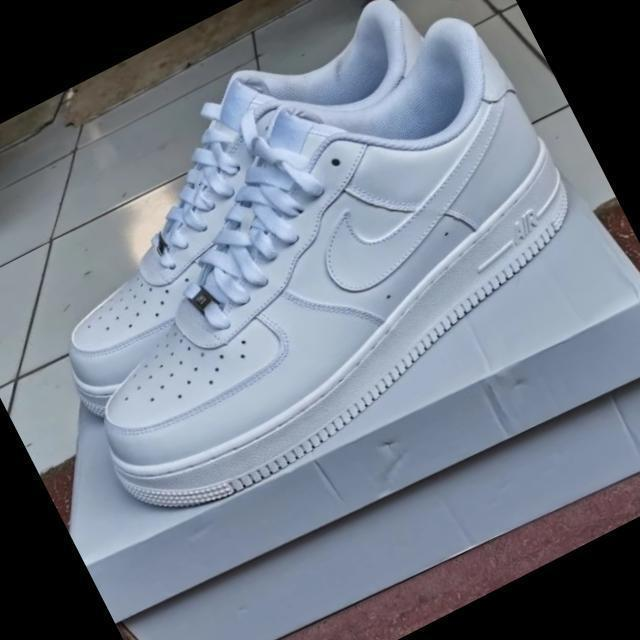nike fake air force: (0, 4, 621, 543), (0, 0, 513, 425)
